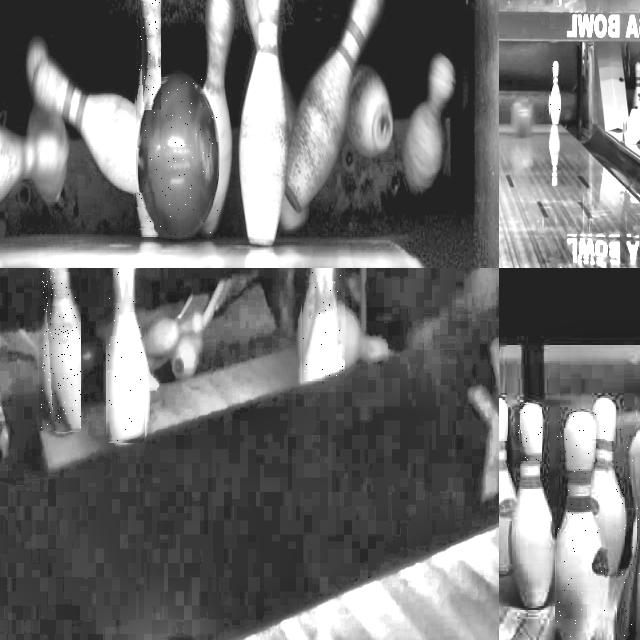bowling-ball: (137, 78, 218, 236)
bowling-pins: (556, 412, 604, 640), (108, 268, 145, 441), (592, 397, 625, 574), (46, 268, 80, 430), (511, 485, 553, 607), (302, 268, 345, 380), (499, 398, 515, 572), (140, 0, 160, 108), (518, 404, 541, 461), (550, 62, 561, 123), (135, 195, 153, 228), (633, 62, 640, 110)
